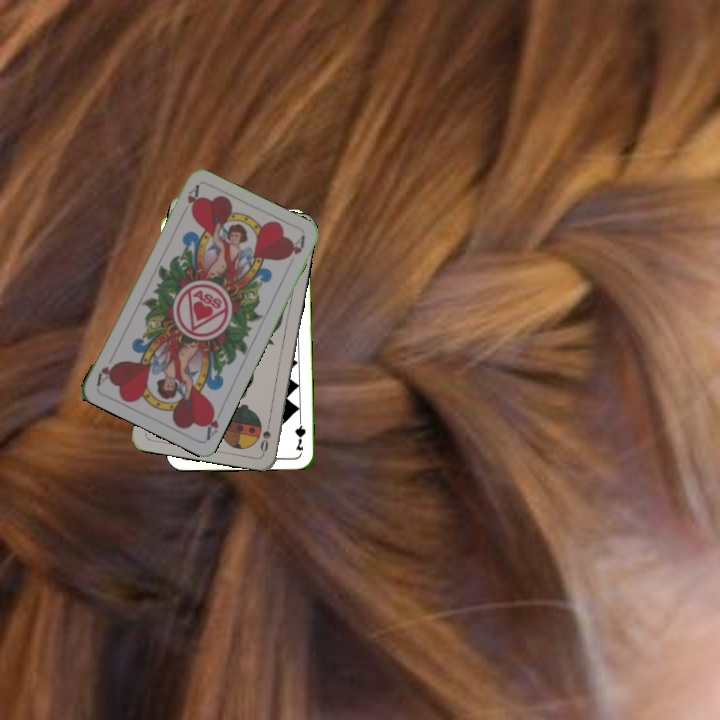G7: (291, 412, 308, 453)
HA: (177, 181, 202, 219), (200, 402, 221, 443)
SO: (256, 414, 273, 455)
